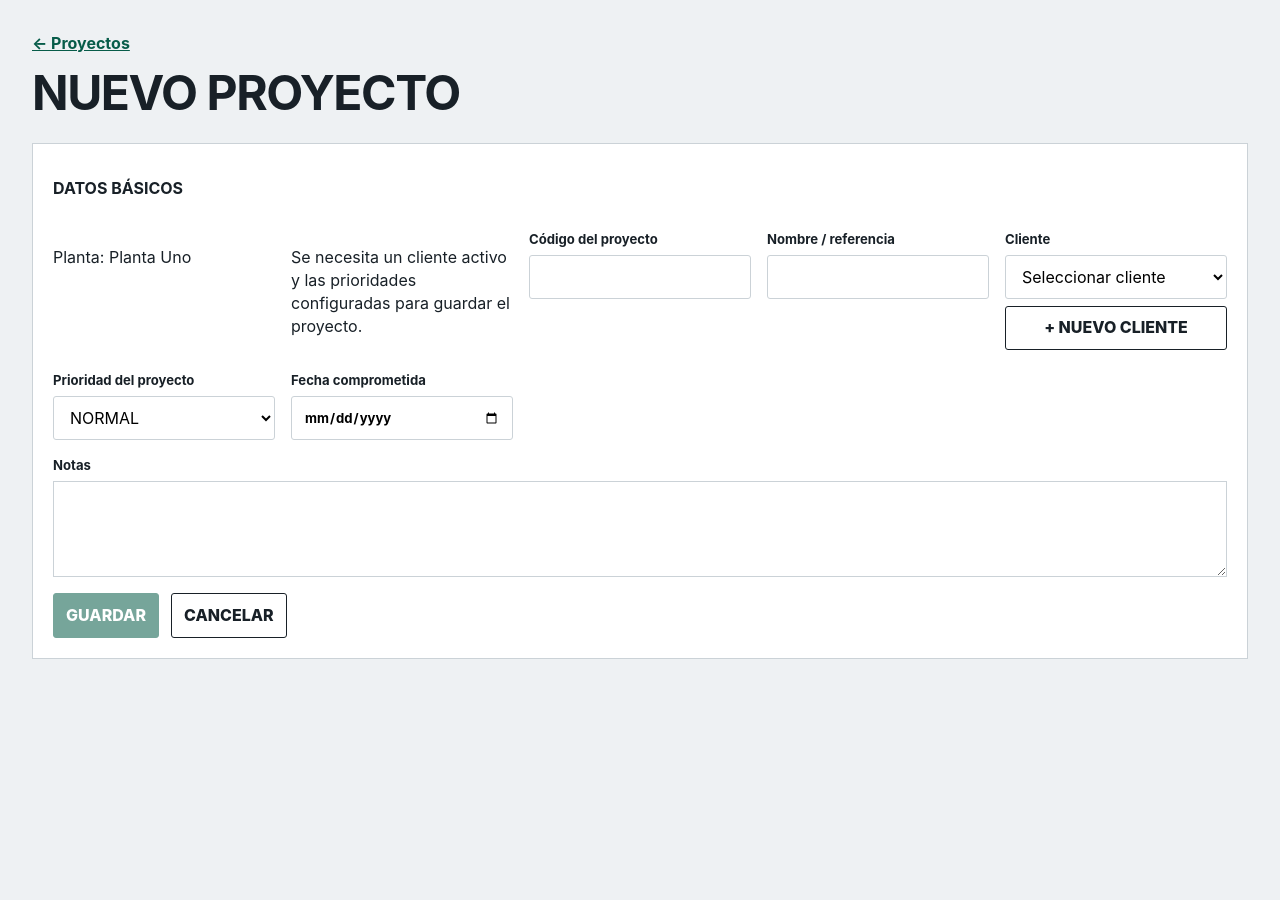
Test case: error incierto conserva formulario e intención; retry no duplica
Click the button "+ NUEVO CLIENTE": (1116, 328) [1005,306,1227,350]
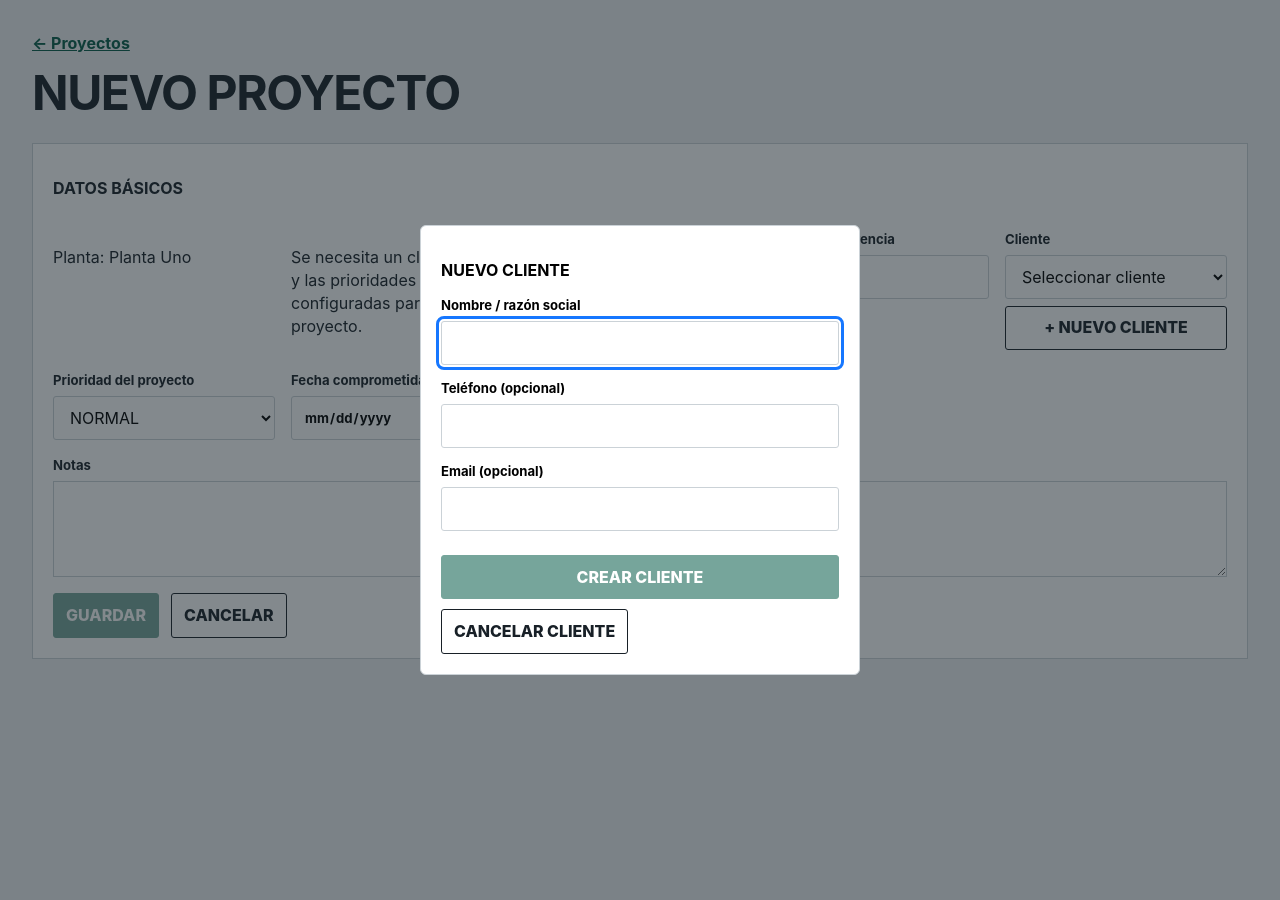
In the field labelled "Nombre / razón social": (640, 343) [441,321,839,365], type "Nico del Castillo"
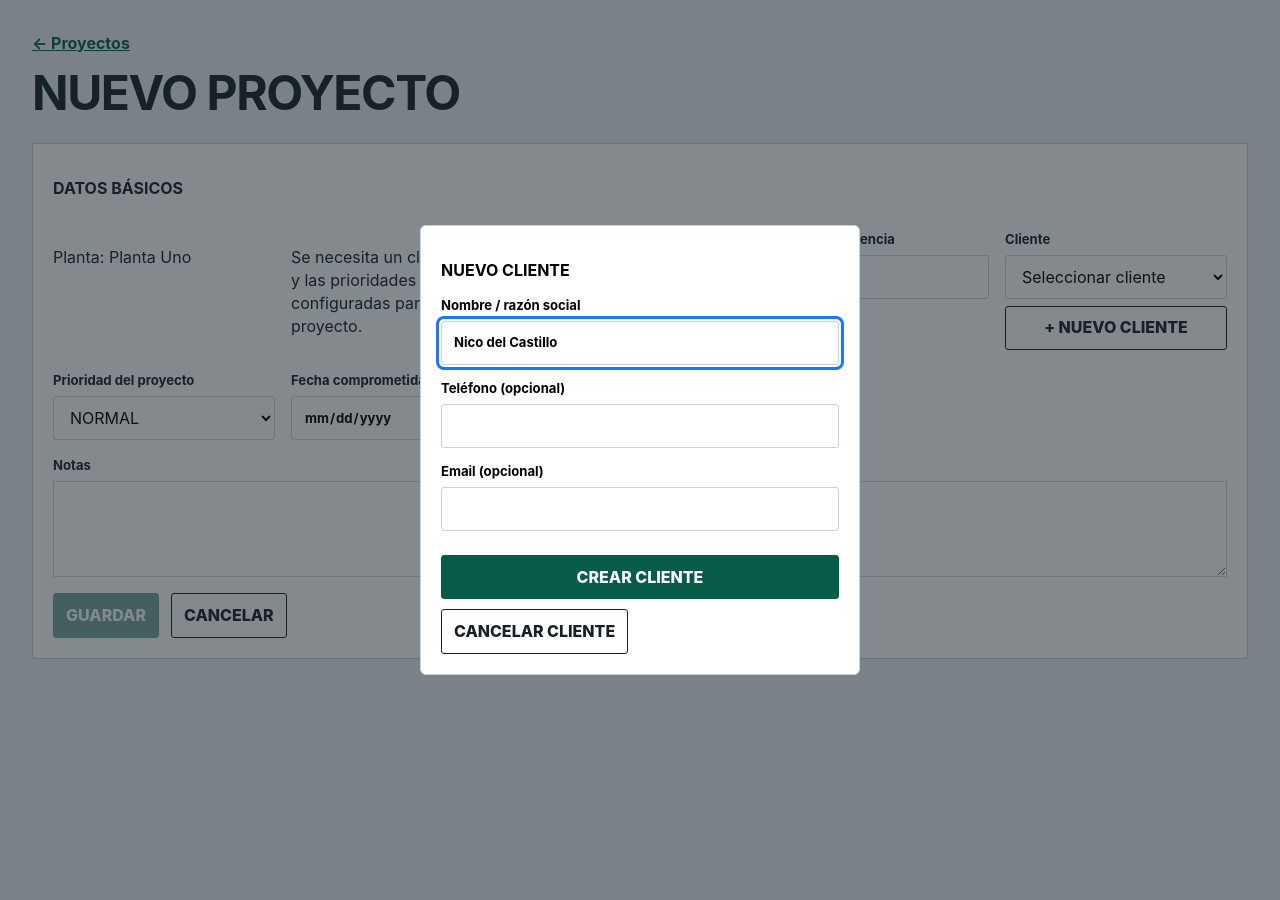
Click the button "CREAR CLIENTE": (640, 577) [441,555,839,599]
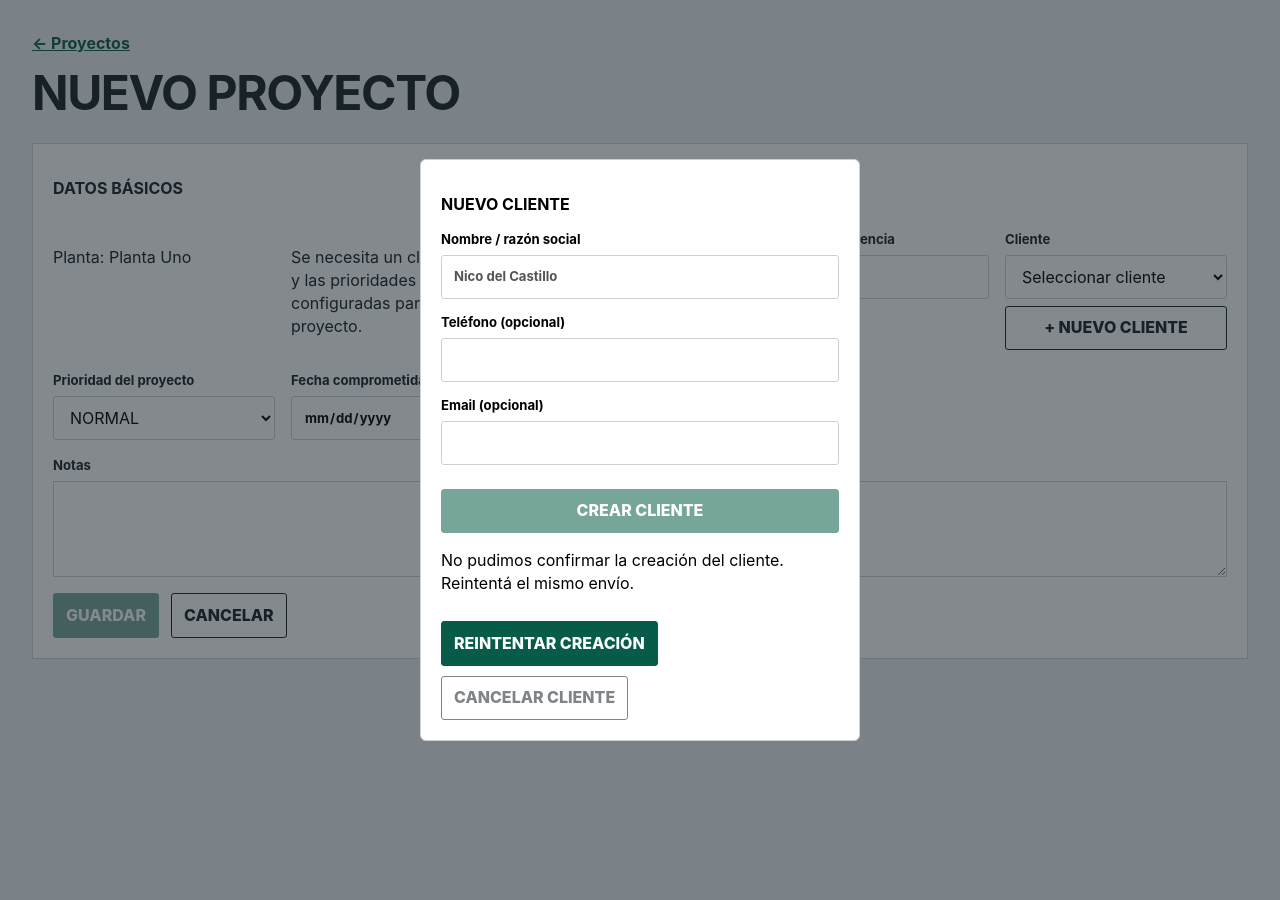
Check: the dialog is shown, box [420,159,860,741]
Check: the field labelled "Nombre / razón social" is disabled, box [441,255,839,299]
Click the button "REINTENTAR CREACIÓN": (549, 644) [441,621,658,666]
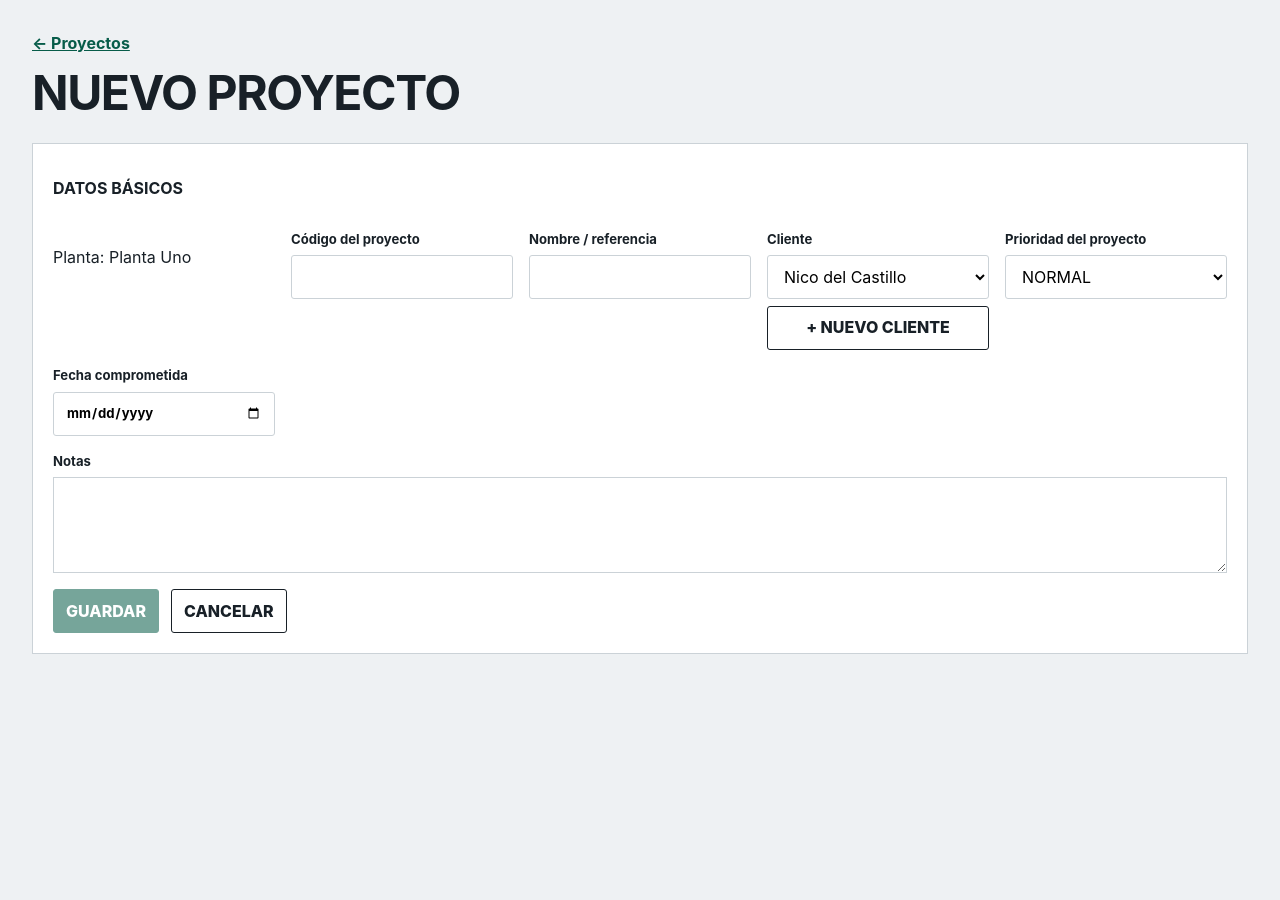
Check: the dialog is gone
Check: the dropdown labelled "Cliente" shows "Nico del Castillo", box [767,255,989,299]
